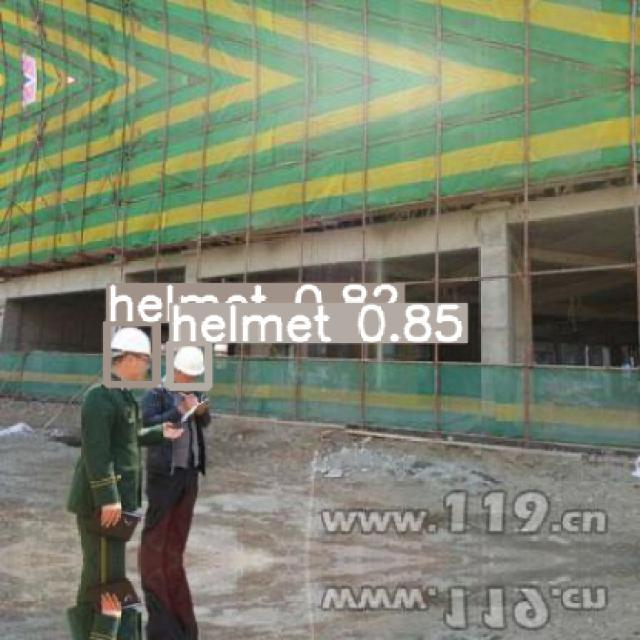white helmet: (106, 306, 154, 368), (174, 341, 214, 389)
